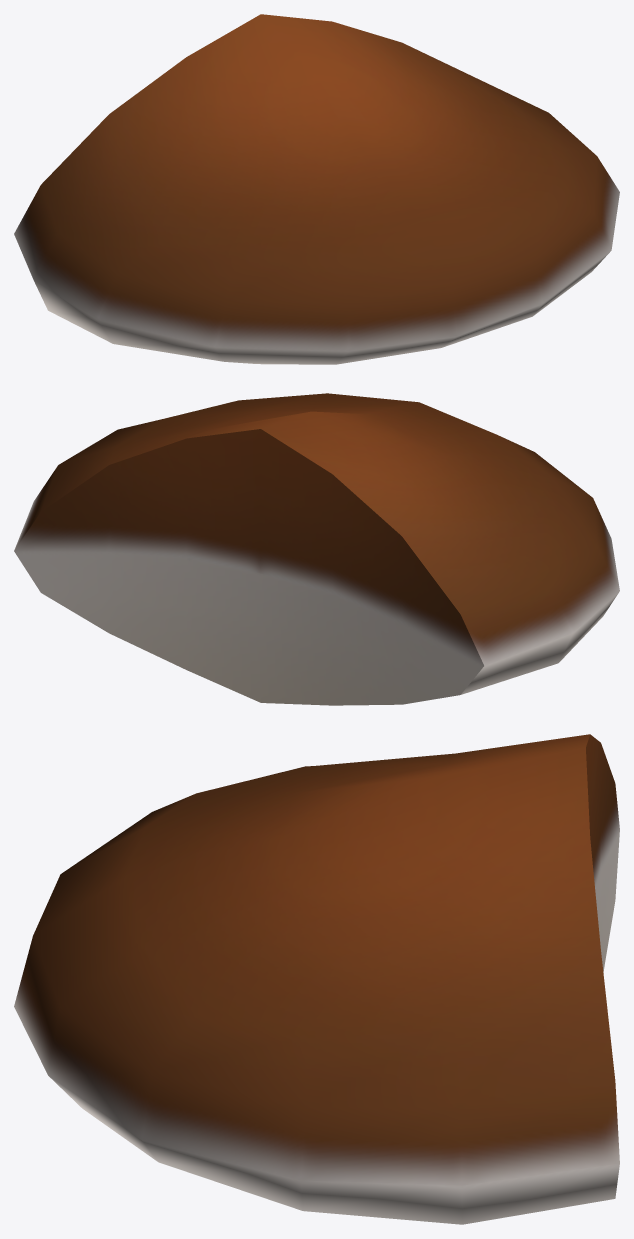
Rendered from Artists_Conk_Basic.fbx.
The picture shows the model from 3 angles, top to bottom: view 1: azimuth 30°, elevation 25°; view 2: azimuth 150°, elevation 25°; view 3: azimuth 270°, elevation 25°; orthographic projection. The views are drawn at different scales.
Parts seen in each view (by area): view 1: Artists_Conk_Basic; view 2: Artists_Conk_Basic; view 3: Artists_Conk_Basic.
Boxes of the visible parts, left/top/right/bottom form: Artists_Conk_Basic: left=14, top=14, right=619, bottom=364; Artists_Conk_Basic: left=14, top=393, right=619, bottom=705; Artists_Conk_Basic: left=14, top=734, right=619, bottom=1224.
Size of the model in its own units: 15.17 by 7.37 by 10.15.
